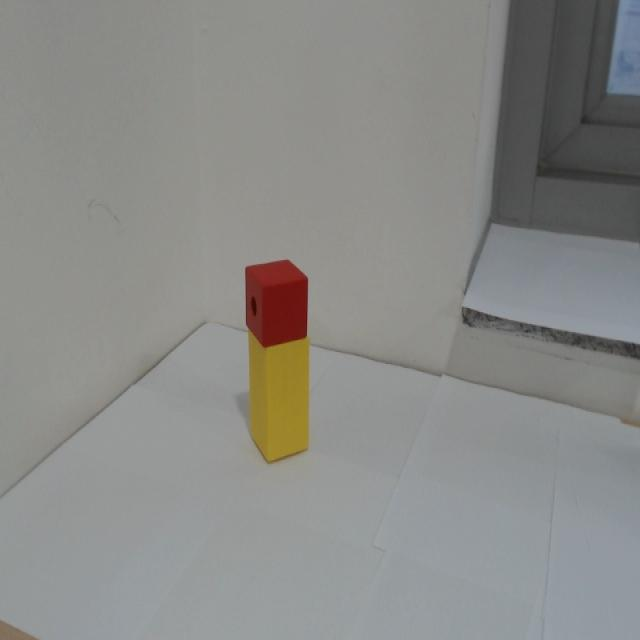cube: (238, 251, 316, 347)
